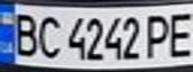2: (81, 12, 106, 62), (121, 11, 145, 61)
4: (63, 12, 87, 62), (103, 12, 127, 62)
B: (6, 8, 42, 57)
C: (33, 11, 63, 60)
E: (163, 8, 193, 59)
P: (142, 10, 175, 60)
